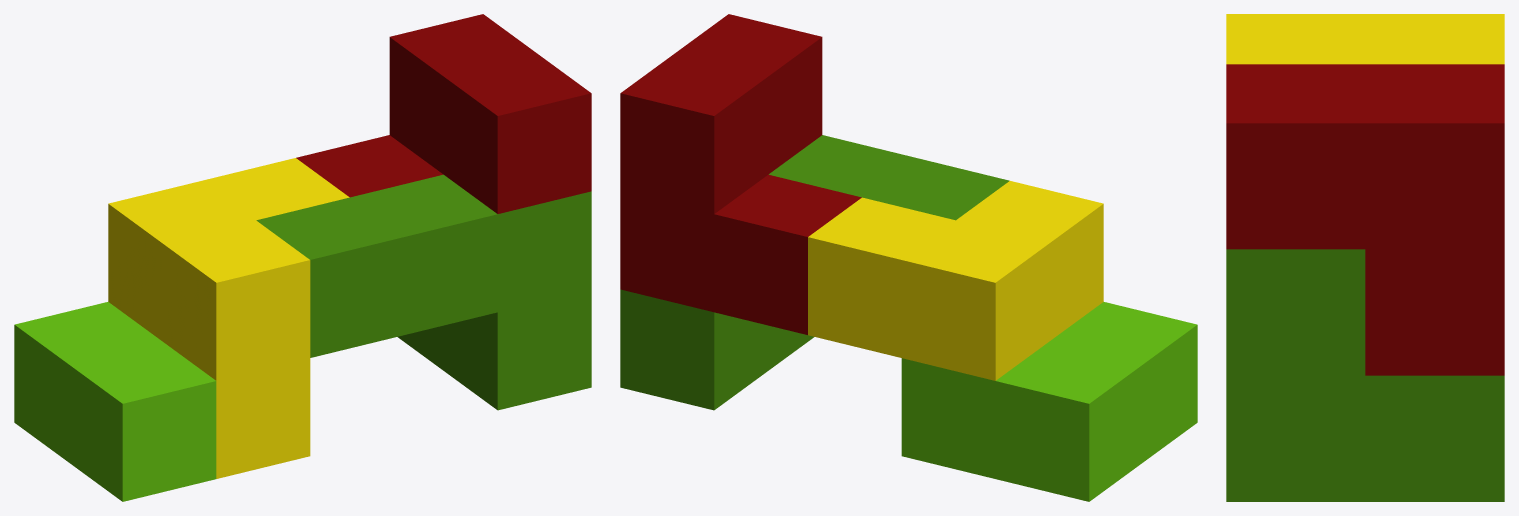
3 renders of one model, left to right at view 1: azimuth 30°, elevation 25°; view 2: azimuth 150°, elevation 25°; view 3: azimuth 270°, elevation 25°, orthographic. The views are drawn at different scales.
Visible parts, largest first — view 1: mergedBlocks(Clone); view 2: mergedBlocks(Clone); view 3: mergedBlocks(Clone).
Boxes of the visible parts, bbox=[...] form: mergedBlocks(Clone): bbox=[14, 14, 591, 501]; mergedBlocks(Clone): bbox=[620, 14, 1197, 501]; mergedBlocks(Clone): bbox=[1226, 14, 1504, 501].
Size of the model in its own units: 5 by 3 by 2.
4 materials, 4 textured.
